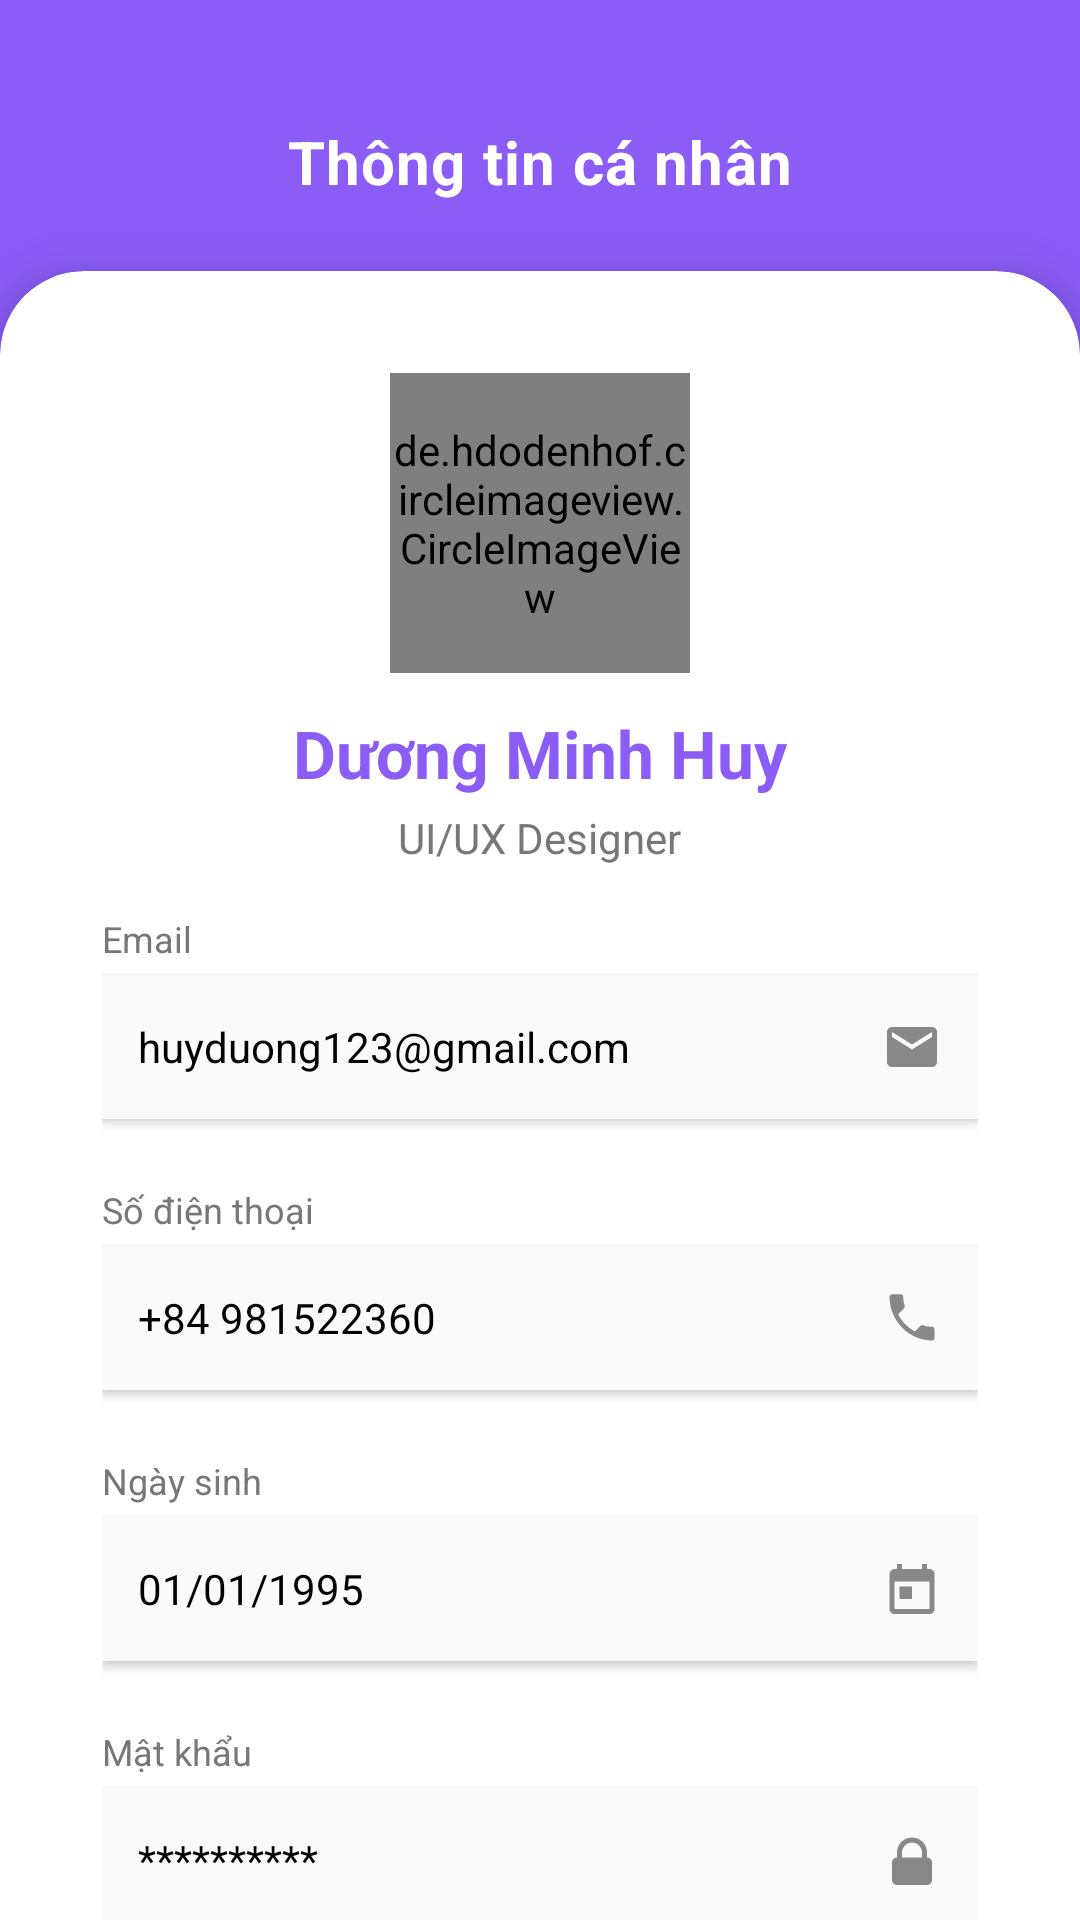

Point at icon controls on the screen. Image size 1080×1920, points as [x,y].
calendar: [912,1589]
email: [912,1047]
password: [912,1861]
phone: [912,1317]
